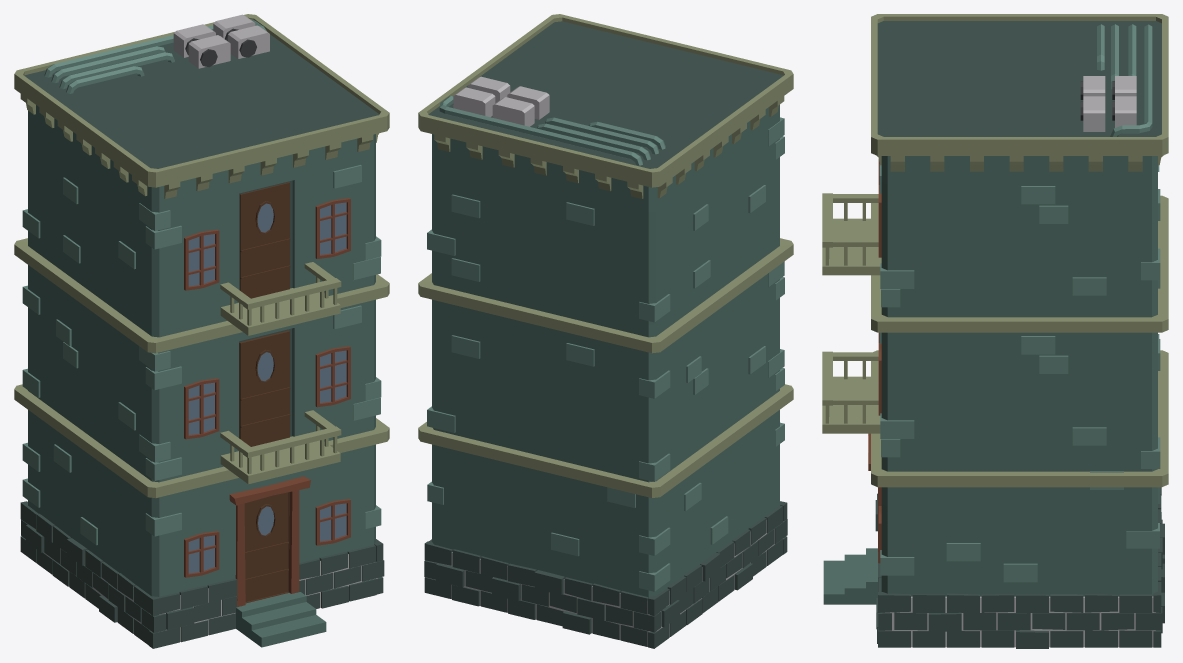
Rendered from quaternius-buildings-pack-3-3-story-balcony-mat.glb.
3 renders of one model, left to right at view 1: azimuth 30°, elevation 25°; view 2: azimuth 150°, elevation 25°; view 3: azimuth 270°, elevation 25°, orthographic. The views are drawn at different scales.
Visible parts, largest first — view 1: 3Story_Balcony_Mat; view 2: 3Story_Balcony_Mat; view 3: 3Story_Balcony_Mat.
Boxes of the visible parts, x1,y1,x2,y2 form: 3Story_Balcony_Mat: (14, 14, 389, 648); 3Story_Balcony_Mat: (418, 14, 793, 648); 3Story_Balcony_Mat: (822, 14, 1168, 648).
Size of the model in its own units: 2.16 by 4.21 by 2.51.
Materials: 1 (1 with a texture image).
